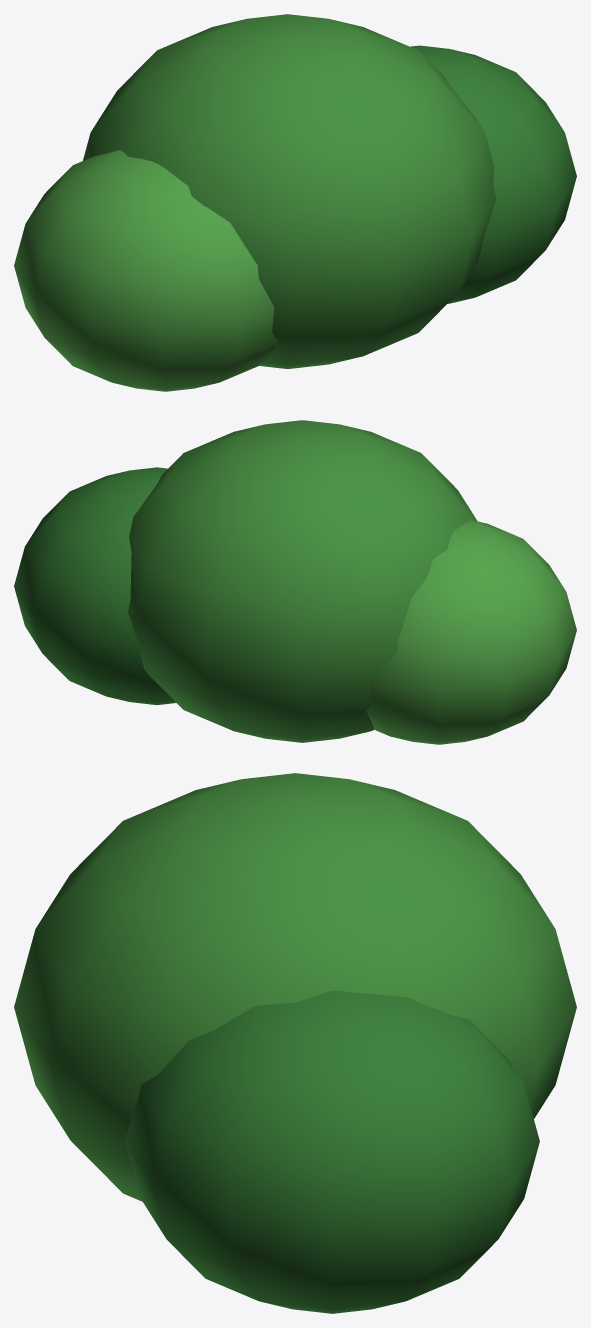
File: arbusto.glb
The picture shows the model from 3 angles, top to bottom: view 1: azimuth 30°, elevation 25°; view 2: azimuth 150°, elevation 25°; view 3: azimuth 270°, elevation 25°; orthographic projection. The views are drawn at different scales.
Visible parts, largest first — view 1: corpo; view 2: corpo; view 3: corpo.
Boxes of the visible parts, x1,y1,x2,y2 form: corpo: [14, 14, 576, 391]; corpo: [14, 420, 576, 744]; corpo: [14, 773, 576, 1313].
Size of the model in its own units: 1.13 by 0.608 by 0.76.
